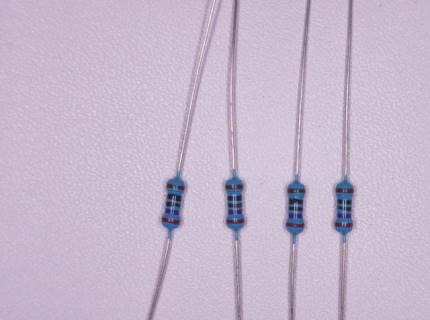Black band: (167, 193, 182, 201), (337, 198, 352, 205), (289, 198, 303, 205), (228, 194, 242, 201), (288, 206, 303, 212), (337, 206, 352, 212), (166, 201, 181, 207), (228, 202, 242, 207)
Brown band: (166, 183, 186, 190), (287, 187, 306, 194), (225, 184, 244, 190), (336, 187, 355, 193)
Red band: (161, 217, 181, 225), (285, 222, 305, 228), (226, 218, 245, 224), (335, 222, 353, 228)
Violet band: (164, 208, 180, 215), (228, 208, 243, 215), (288, 212, 302, 219), (337, 212, 351, 219)
